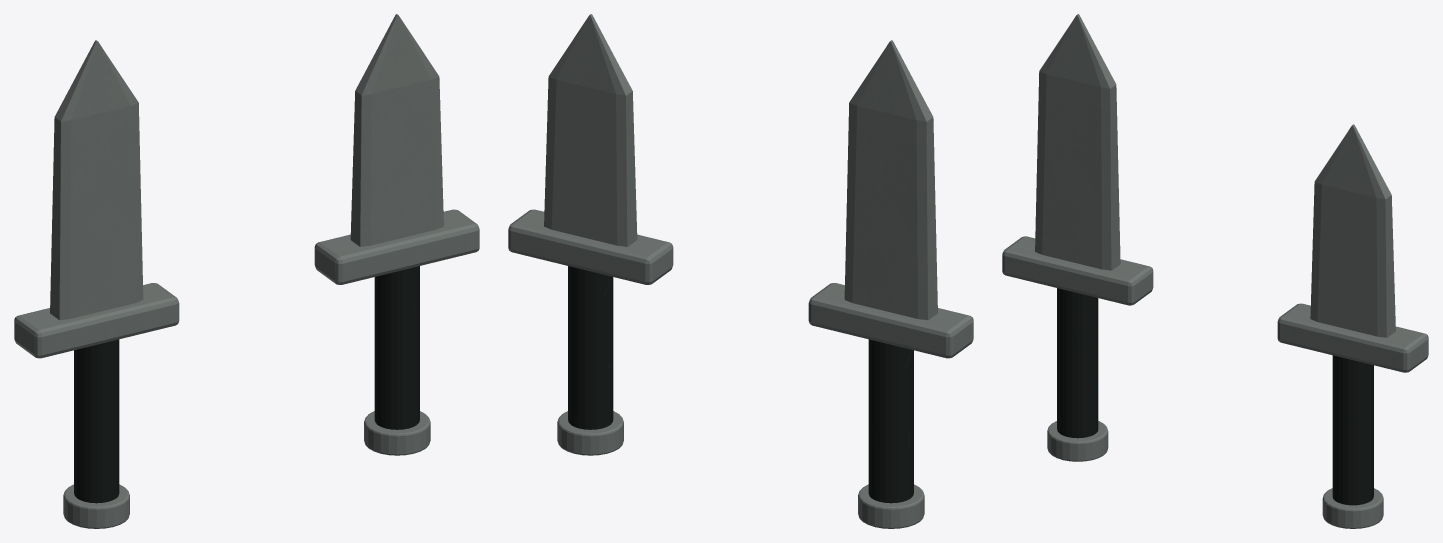
The model's file is dual_blades-t1.glb.
3 renders of one model, left to right at view 1: azimuth 30°, elevation 25°; view 2: azimuth 150°, elevation 25°; view 3: azimuth 330°, elevation 25°, orthographic. The views are drawn at different scales.
Visible parts, largest first — view 1: Forged blade, Forged blade.001, Wrapped handle, Wrapped handle.001, Crossguard.001, Crossguard, Weighted pommel.001, Weighted pommel; view 2: Forged blade, Forged blade.001, Wrapped handle, Wrapped handle.001, Crossguard.001, Crossguard, Weighted pommel.001, Weighted pommel; view 3: Forged blade, Forged blade.001, Wrapped handle.001, Wrapped handle, Crossguard.001, Crossguard, Weighted pommel.001, Weighted pommel.
Part boxes in pixels (x1,y1,x2,y2): Forged blade: [50, 40, 143, 320]; Forged blade.001: [350, 14, 443, 246]; Wrapped handle: [74, 339, 119, 503]; Wrapped handle.001: [374, 266, 419, 429]; Crossguard.001: [314, 209, 479, 284]; Crossguard: [14, 283, 179, 358]; Weighted pommel.001: [364, 411, 430, 455]; Weighted pommel: [63, 484, 129, 528]; Forged blade: [844, 40, 937, 320]; Forged blade.001: [544, 14, 637, 246]; Wrapped handle: [868, 339, 913, 503]; Wrapped handle.001: [568, 266, 613, 429]; Crossguard.001: [508, 209, 673, 284]; Crossguard: [808, 283, 973, 358]; Weighted pommel.001: [557, 411, 623, 455]; Weighted pommel: [858, 484, 924, 528]; Forged blade: [1035, 14, 1120, 270]; Forged blade.001: [1310, 124, 1395, 337]; Wrapped handle.001: [1332, 355, 1373, 505]; Wrapped handle: [1057, 288, 1098, 438]; Crossguard.001: [1277, 303, 1428, 372]; Crossguard: [1002, 236, 1153, 305]; Weighted pommel.001: [1322, 488, 1383, 528]; Weighted pommel: [1047, 421, 1108, 461].
Bounding box in the file's own units: 1.48 × 1.51 × 0.192.
2 materials, 2 textured.
